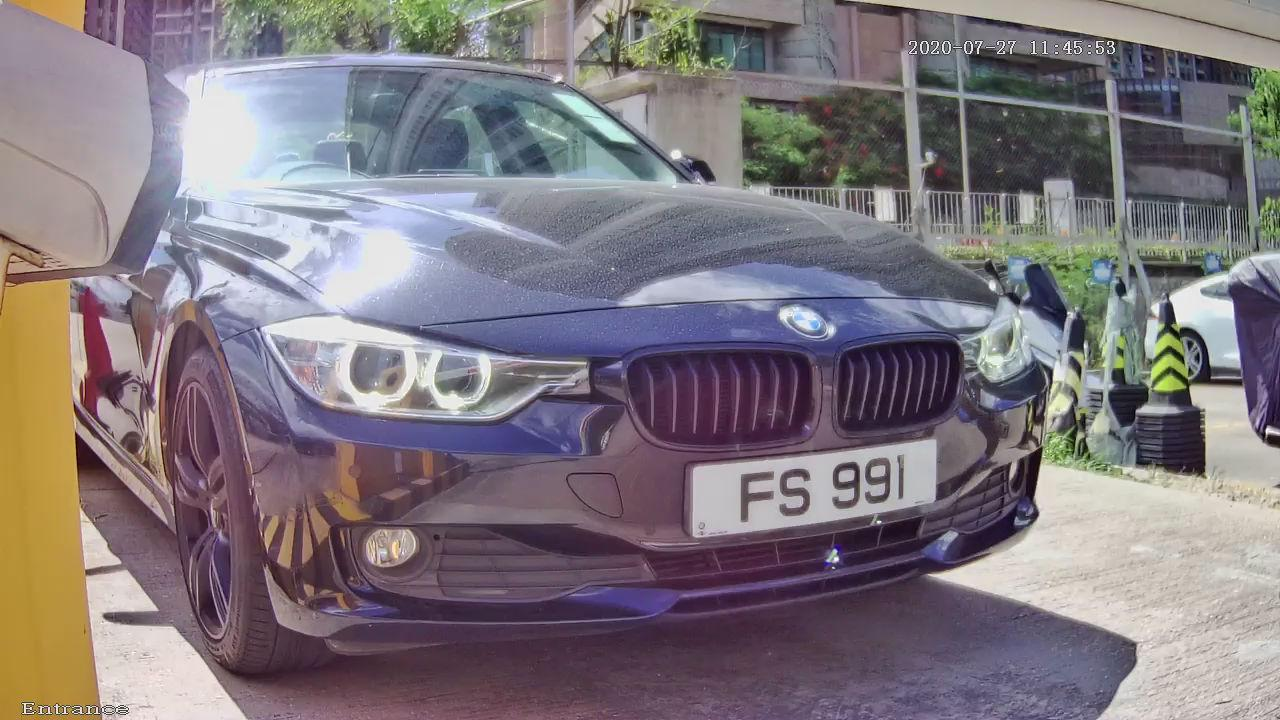privatecar: (52, 26, 1109, 672)
